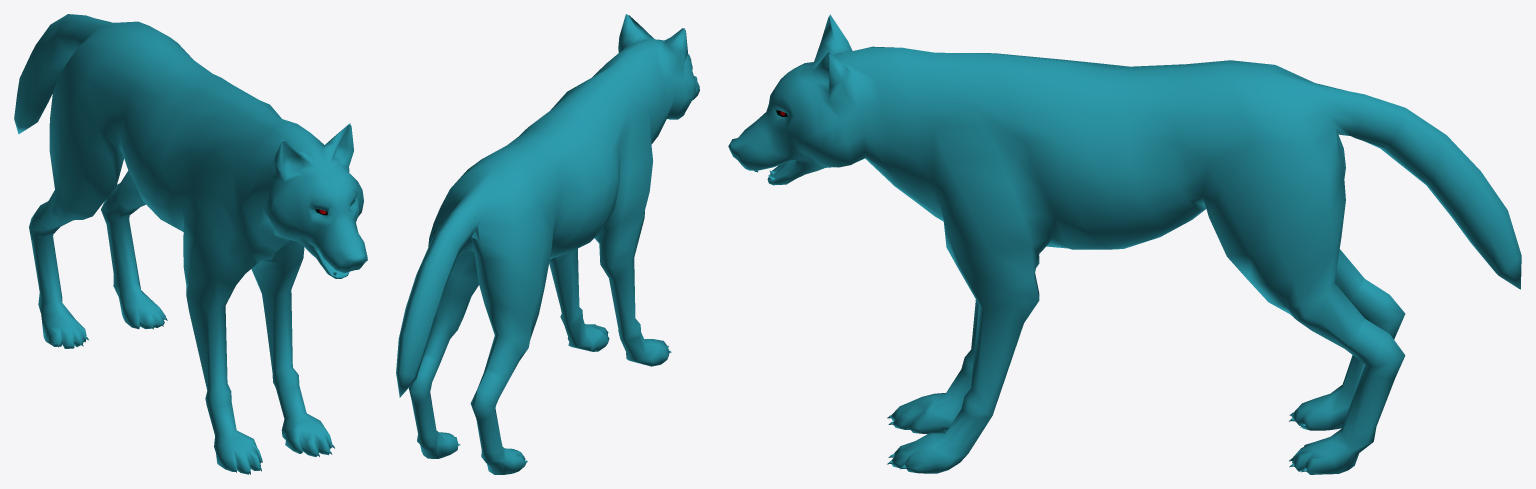
The model's file is wolf.fbx.
3 views of the same model, side by side, from view 1: azimuth 30°, elevation 25°; view 2: azimuth 150°, elevation 25°; view 3: azimuth 270°, elevation 25° (orthographic). The views are drawn at different scales.
Visible parts, largest first — view 1: wolfyskle_Wolf; view 2: wolfyskle_Wolf; view 3: wolfyskle_Wolf.
Part boxes in pixels (x1=…): wolfyskle_Wolf: x1=14, y1=14, x2=367, y2=474; wolfyskle_Wolf: x1=396, y1=14, x2=699, y2=474; wolfyskle_Wolf: x1=728, y1=14, x2=1521, y2=474.
Bounding box in the file's own units: 0.8367 × 2.36 × 4.14.
